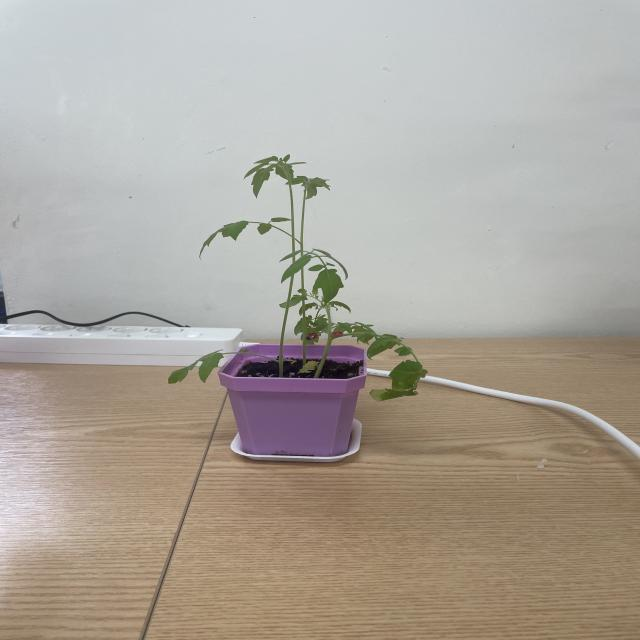bug: (303, 331, 326, 346), (323, 326, 346, 339)
